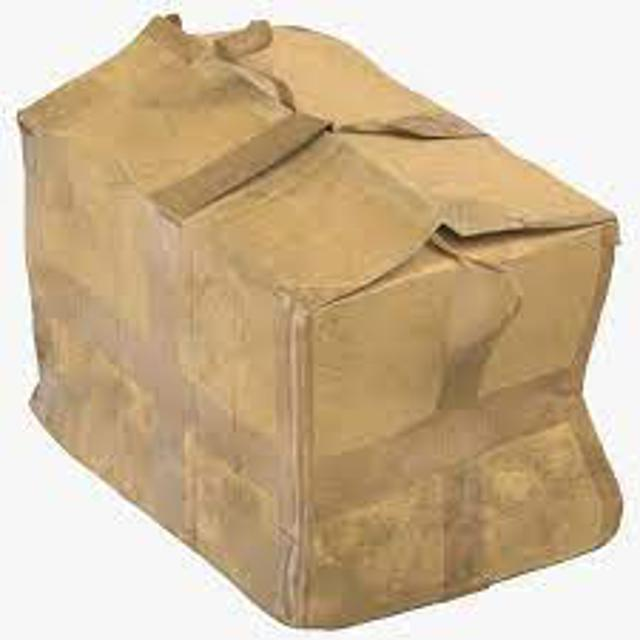defect: (16, 18, 630, 632)
